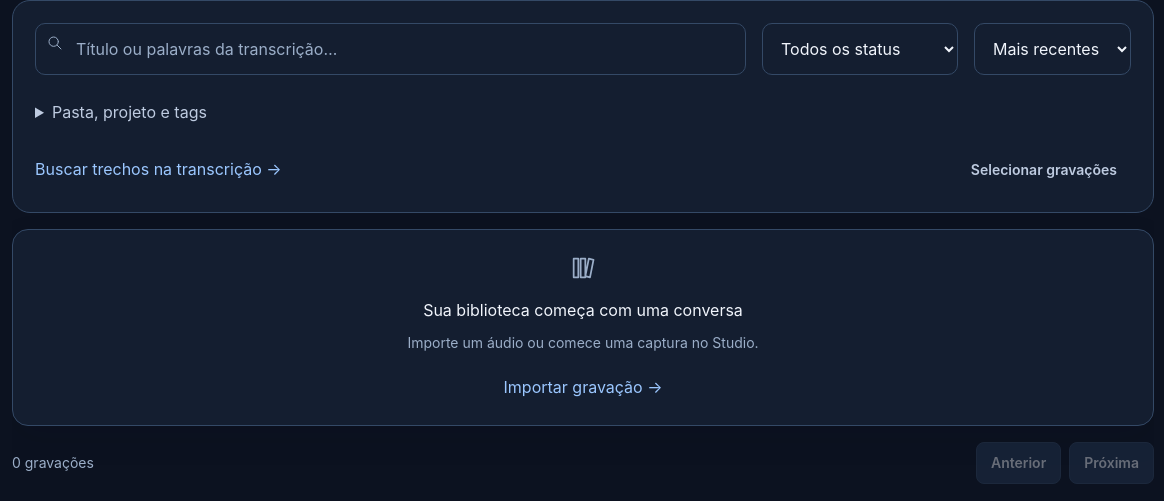
debounces search, respects composition and clears immediately with focus restoration
This screenshot has width=1164, height=501.
Step 1. Type "backup" into the search field → (390, 49), box [35, 23, 746, 75]
Wait 800 ms
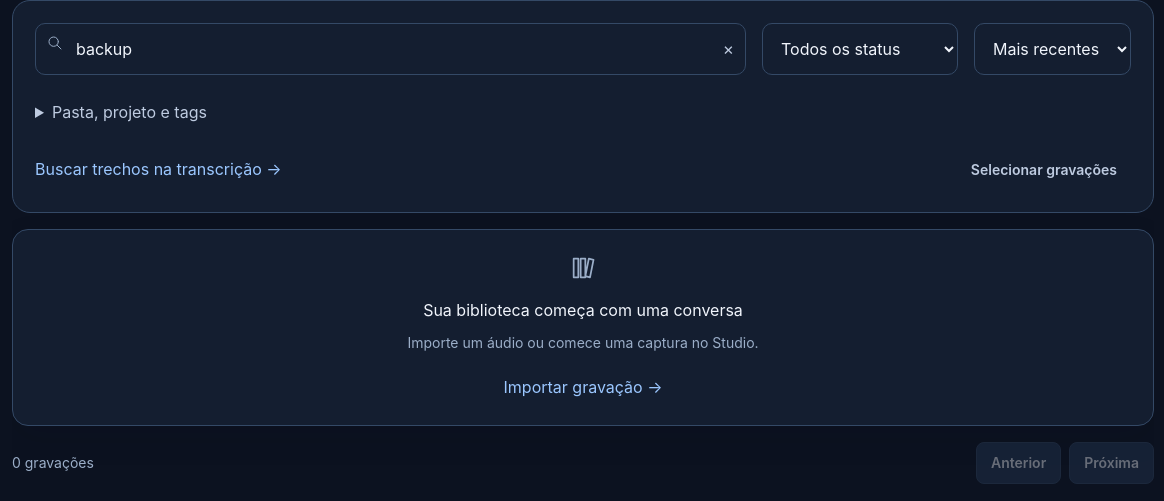
Step 2. Click the button named "Limpar busca" → click(728, 49), box [715, 27, 742, 71]
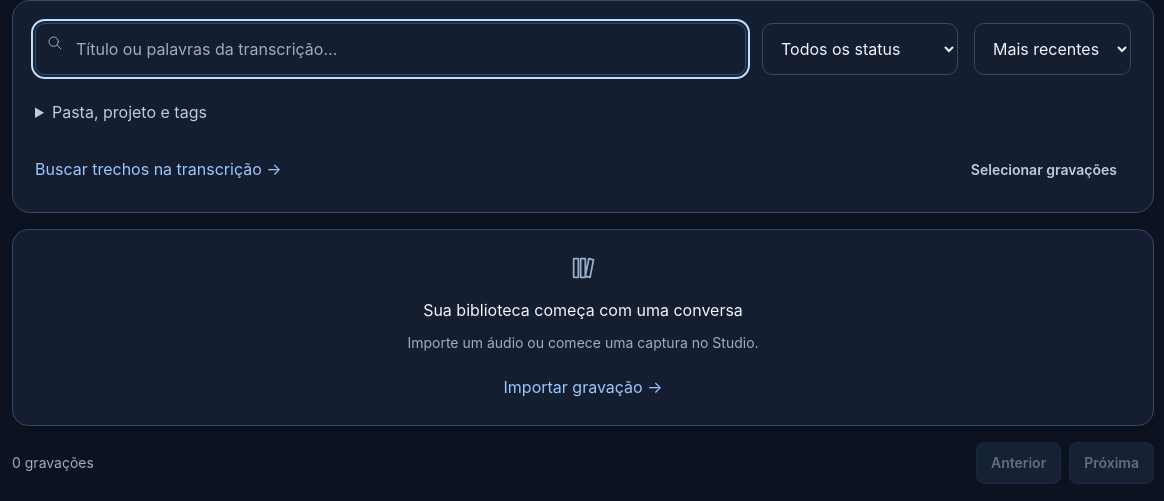
Expected: the search field is empty, [35, 23, 746, 75]
